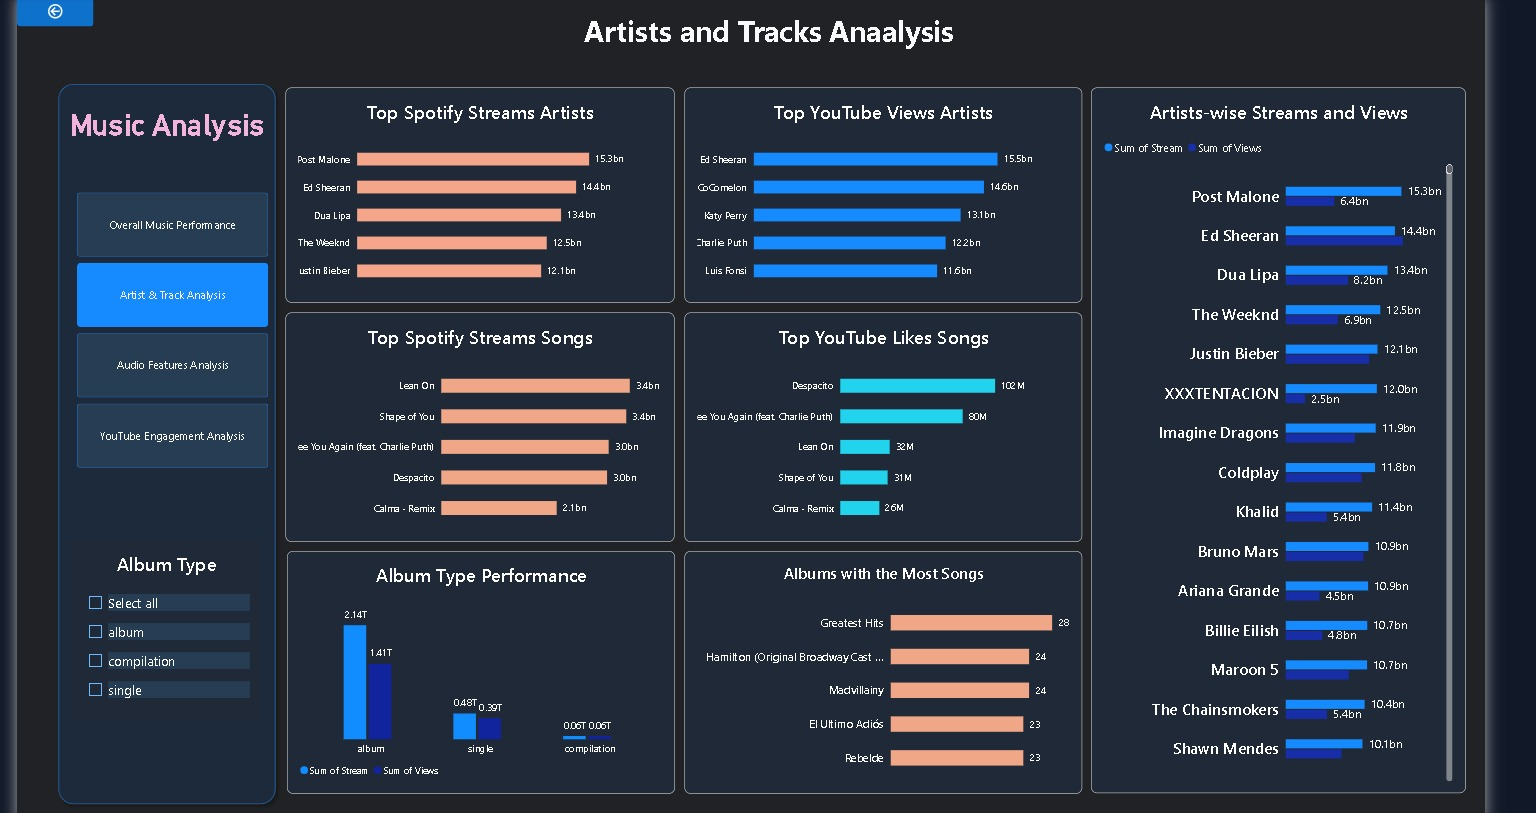

The page's visual inventory and layout, read from the dashboard file:
{"tool":"powerbi","page":{"name":"Artist & Track Analysis","canvas":[1920,1080],"ordinal":1},"visuals":[{"type":"clusteredBarChart","title":"Top Spotify Streams Artists","fields":{"Category":["Spotify_Youtube Dataset.Artist"],"Y":["Spotify_Youtube Dataset.Total Streams"]},"box":[352.1,120.4,508.8,281.6],"z":0},{"type":"clusteredBarChart","title":"Top YouTube Views Artists","fields":{"Category":["Spotify_Youtube Dataset.Artist"],"Y":["Sum(Spotify_Youtube Dataset.Views)"]},"box":[872.2,120.4,520.1,281.6],"z":1000},{"type":"actionButton","box":[0,0,100,40],"z":2000},{"type":"shape","box":[45,105,302,960],"z":3000},{"type":"clusteredBarChart","title":"Top YouTube Likes Songs","fields":{"Category":["Spotify_Youtube Dataset.Track"],"Y":["Sum(Spotify_Youtube Dataset.Likes)"]},"box":[872,413.4,520,299.8],"z":4000},{"type":"clusteredBarChart","title":"Top Spotify Streams Songs","fields":{"Category":["Spotify_Youtube Dataset.Track"],"Y":["Sum(Spotify_Youtube Dataset.Stream)"]},"box":[352.1,413,508.8,299.8],"z":5000},{"type":"clusteredBarChart","title":"Artists-wise Streams and Views","fields":{"Category":["Spotify_Youtube Dataset.Artist"],"Y":["Sum(Spotify_Youtube Dataset.Stream)","Sum(Spotify_Youtube Dataset.Views)"]},"box":[1405,120,490,922.5],"z":6000},{"type":"clusteredColumnChart","title":"Album Type Performance","fields":{"Category":["Spotify_Youtube Dataset.Album_type"],"Y":["Sum(Spotify_Youtube Dataset.Stream)","Sum(Spotify_Youtube Dataset.Views)"]},"box":[352.5,725,507.5,317.5],"z":7000},{"type":"slicer","title":"Album Type","fields":{"Values":["Spotify_Youtube Dataset.Album_type"]},"box":[70,712.5,250,237.5],"z":8000},{"type":"clusteredBarChart","title":"Albums with the Most Songs","fields":{"Category":["Spotify_Youtube Dataset.Album"],"Y":["CountNonNull(Spotify_Youtube Dataset.Track)"]},"box":[872.5,725,520,317.5],"z":9000},{"type":"textbox","box":[715,20,535,65],"z":10000},{"type":"pageNavigator","box":[77.5,257.5,250,360],"z":10001},{"type":"textbox","box":[68,145,300,90],"z":10002}]}

Visuals, with their boxes on the page's 1920x1080 design canvas (x1, y1, x2, y2). These are canvas units, not pixel positions in the 1536x813 screenshot, which may show the page scaled, cropped or inside an application window:
"Top Spotify Streams Artists" clusteredBarChart: left=352, top=120, right=861, bottom=402
"Top YouTube Views Artists" clusteredBarChart: left=872, top=120, right=1392, bottom=402
actionButton: left=0, top=0, right=100, bottom=40
shape: left=45, top=105, right=347, bottom=1065
"Top YouTube Likes Songs" clusteredBarChart: left=872, top=413, right=1392, bottom=713
"Top Spotify Streams Songs" clusteredBarChart: left=352, top=413, right=861, bottom=713
"Artists-wise Streams and Views" clusteredBarChart: left=1405, top=120, right=1895, bottom=1042
"Album Type Performance" clusteredColumnChart: left=352, top=725, right=860, bottom=1042
"Album Type" slicer: left=70, top=712, right=320, bottom=950
"Albums with the Most Songs" clusteredBarChart: left=872, top=725, right=1392, bottom=1042
textbox: left=715, top=20, right=1250, bottom=85
pageNavigator: left=78, top=258, right=328, bottom=618
textbox: left=68, top=145, right=368, bottom=235
